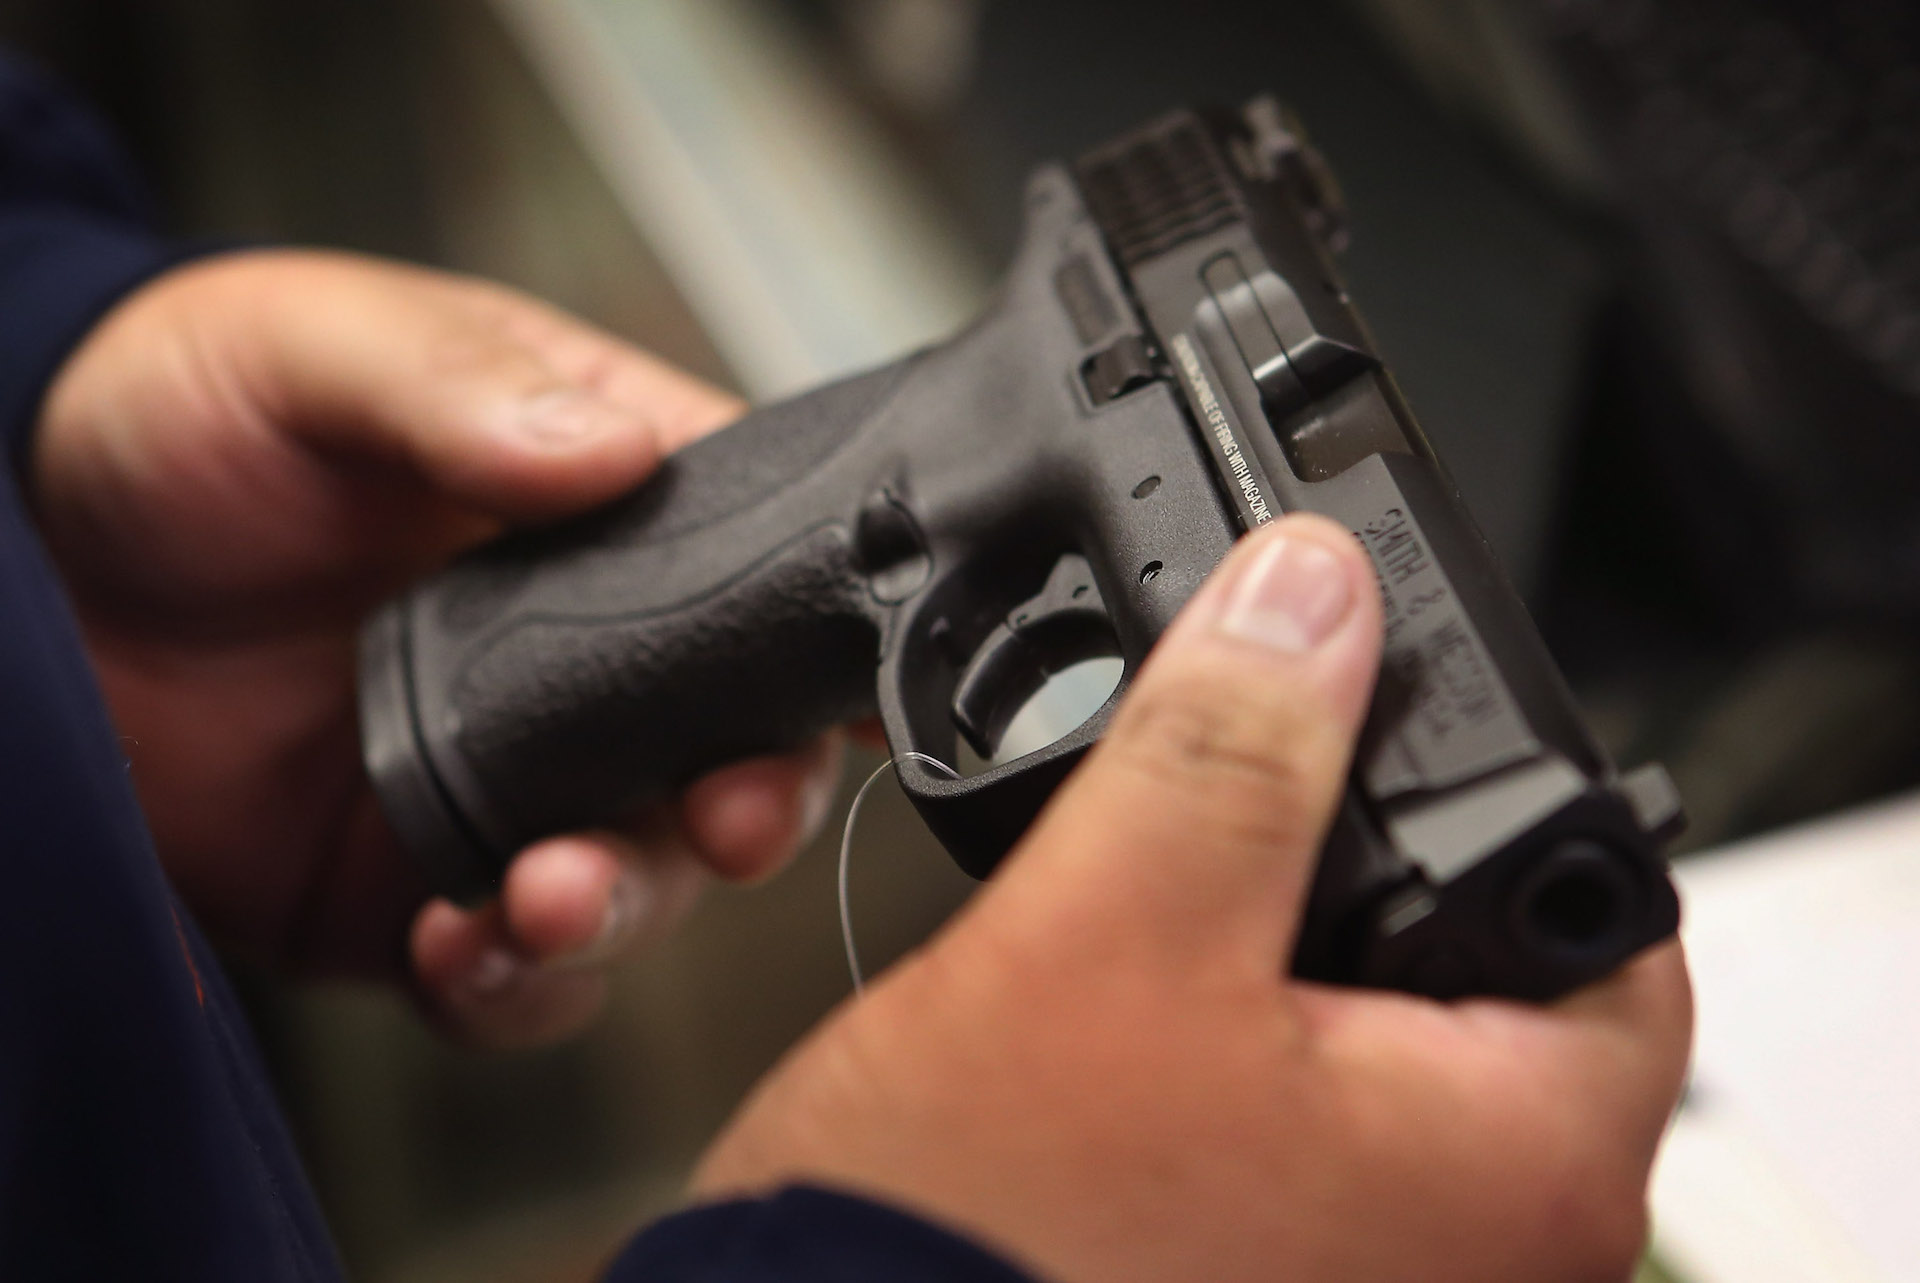pistol: (354, 89, 1692, 1022)
